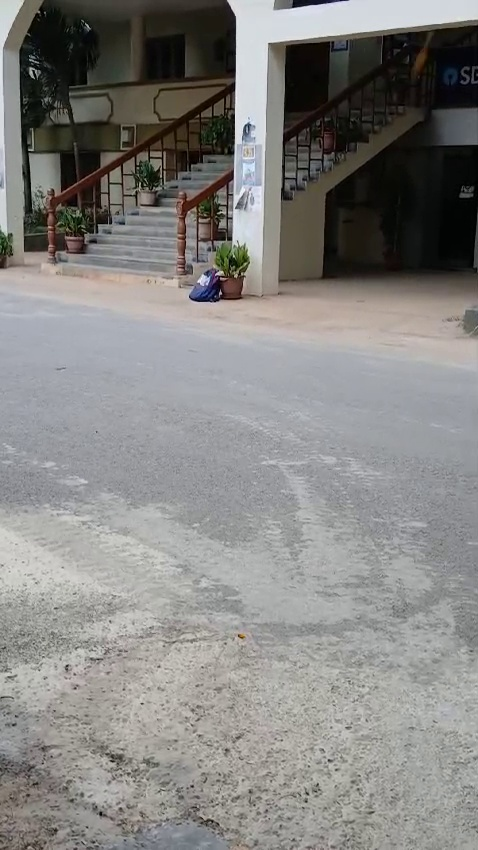bag: (183, 259, 219, 305)
